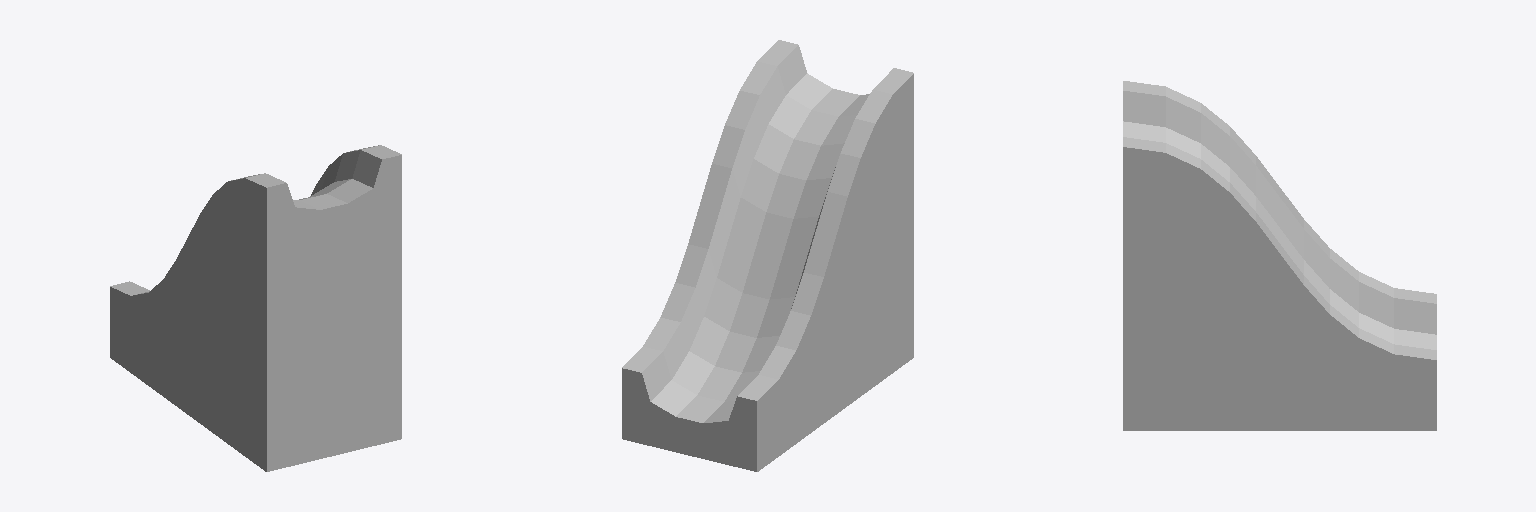
Rendered from ramp-long-solid-d.obj.
3 renders of one model, left to right at view 1: azimuth 30°, elevation 25°; view 2: azimuth 150°, elevation 25°; view 3: azimuth 270°, elevation 25°, orthographic.
Parts seen in each view (by area): view 1: ramp-long-solid-d; view 2: ramp-long-solid-d; view 3: ramp-long-solid-d.
Part boxes in pixels (x1,y1,x2,y2): ramp-long-solid-d: (110, 145, 401, 471); ramp-long-solid-d: (622, 40, 913, 471); ramp-long-solid-d: (1123, 81, 1436, 430).
Size of the model in its own units: 1 by 2 by 2.